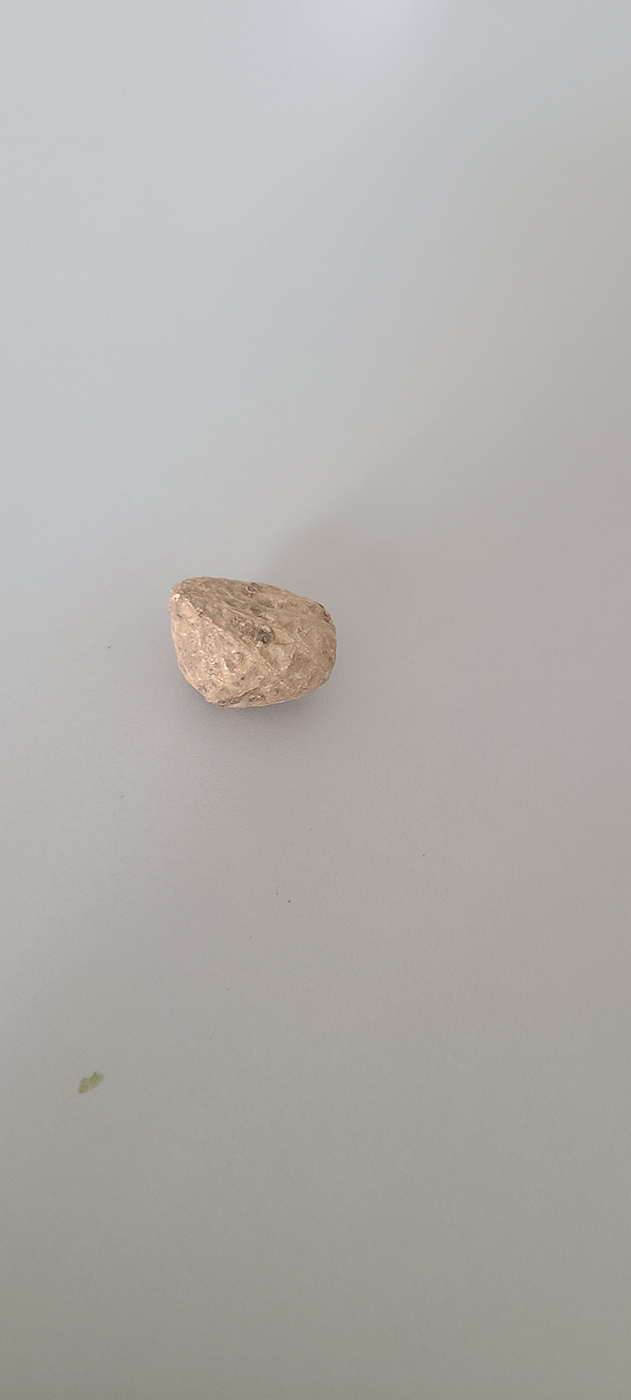h: (166, 572, 336, 715)
